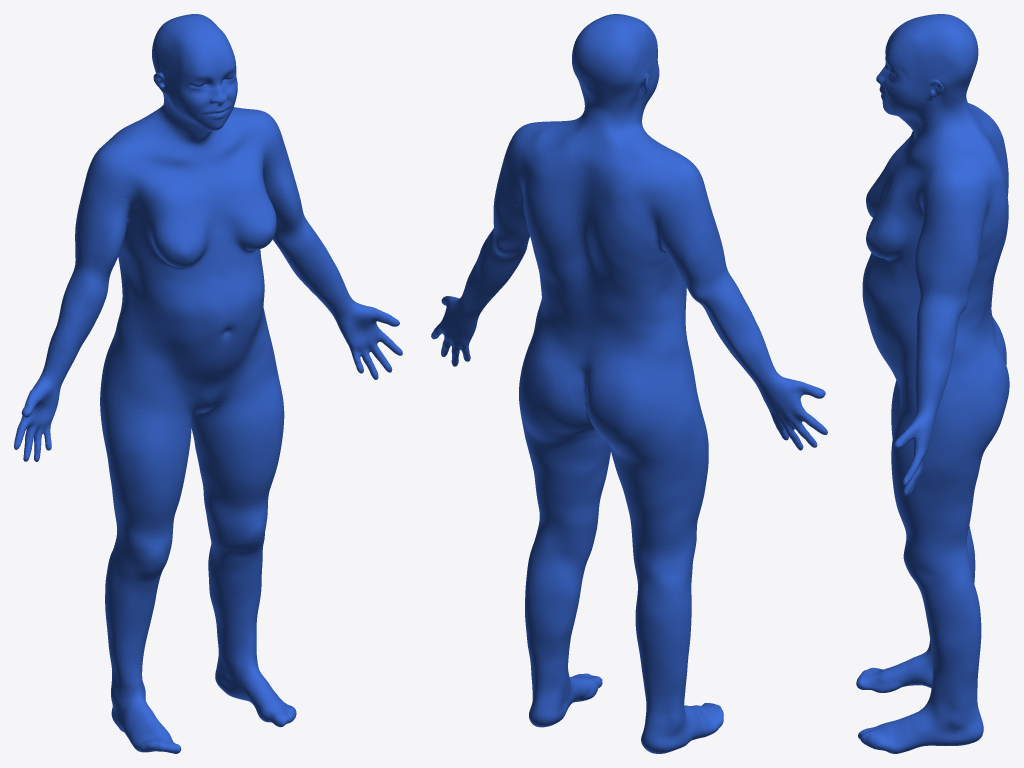
Rendered from 3d-vh-f-skin_0.2.glb.
3 renders of one model, left to right at view 1: azimuth 30°, elevation 25°; view 2: azimuth 150°, elevation 25°; view 3: azimuth 270°, elevation 25°, orthographic.
Parts seen in each view (by area): view 1: VH_F_skin; view 2: VH_F_skin; view 3: VH_F_skin.
Boxes of the visible parts, x1,y1,x2,y2 form: VH_F_skin: (14, 14, 402, 753); VH_F_skin: (431, 14, 827, 753); VH_F_skin: (856, 14, 1009, 753).
Size of the model in its own units: 0.9677 by 1.67 by 0.3293.
